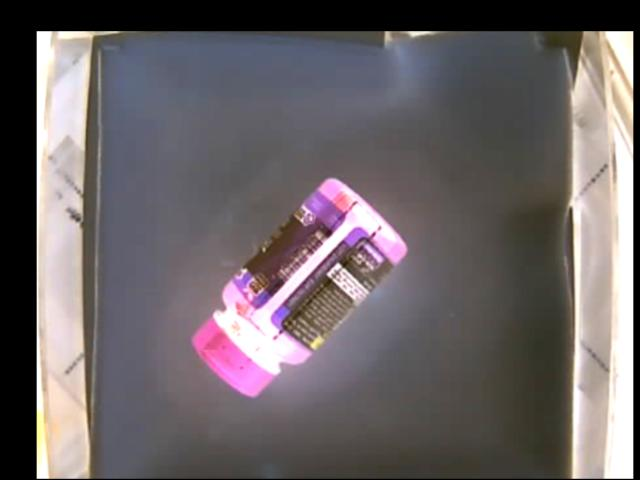Bottle: (192, 179, 407, 402)
